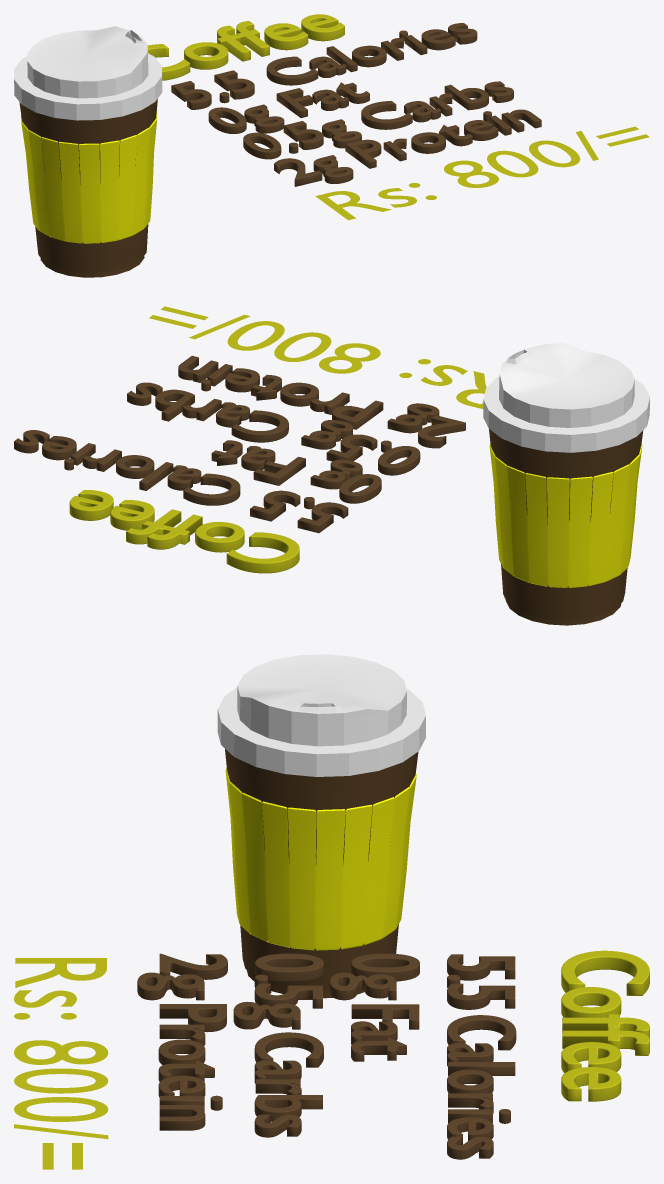
File: Coffee.glb
The picture shows the model from 3 angles, top to bottom: view 1: azimuth 30°, elevation 25°; view 2: azimuth 150°, elevation 25°; view 3: azimuth 270°, elevation 25°; orthographic projection. The views are drawn at different scales.
Parts seen in each view (by area): view 1: spotLight4, Text, Text.001, Text.002; view 2: spotLight4, Text, Text.001, Text.002; view 3: spotLight4, Text, Text.001, Text.002.
Boxes of the visible parts, bbox=[...] form: spotLight4: bbox=[14, 26, 162, 277]; Text: bbox=[171, 23, 541, 186]; Text.001: bbox=[147, 14, 344, 80]; Text.002: bbox=[315, 126, 649, 220]; spotLight4: bbox=[483, 343, 649, 625]; Text: bbox=[14, 355, 465, 533]; Text.001: bbox=[69, 490, 299, 573]; Text.002: bbox=[149, 306, 486, 408]; spotLight4: bbox=[217, 654, 425, 998]; Text: bbox=[137, 953, 516, 1159]; Text.001: bbox=[561, 950, 649, 1101]; Text.002: bbox=[14, 958, 108, 1169].
Size of the model in its own units: 3.61 by 1.39 by 2.71.
